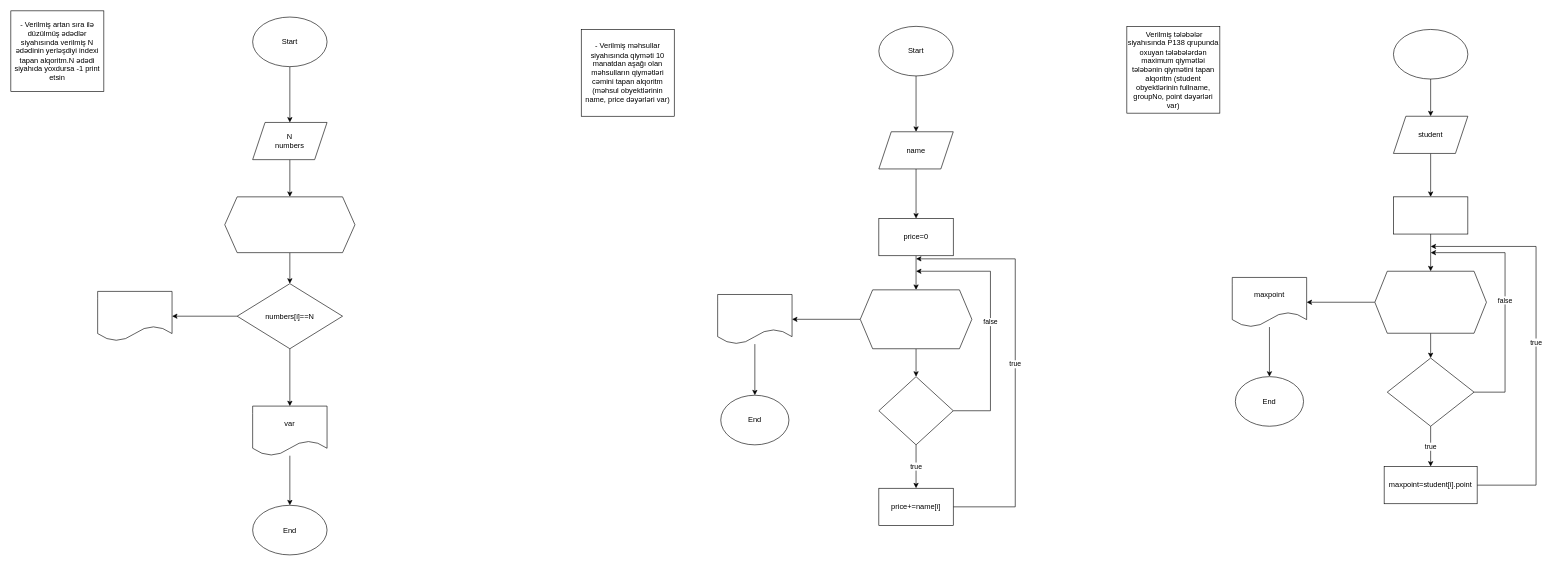
This 1552x566 diagram has some shape labels left out. The box of each missing label's shape, as (x1, y1, x2, y2) in pixels:
i=0;i<name.leigth;i++: (860, 289, 972, 349)
i=0;i<numbers.length;i++: (224, 196, 355, 253)
i=1;i<student.length;i++: (1374, 271, 1486, 333)
maxpoint==student[1]: (1393, 196, 1468, 234)
name[i]<10: (878, 376, 953, 445)
price: (717, 294, 792, 344)
star: (1393, 29, 1468, 79)
student[1].point>maxpoint: (1387, 357, 1474, 426)
yoxdur: (97, 291, 172, 341)
